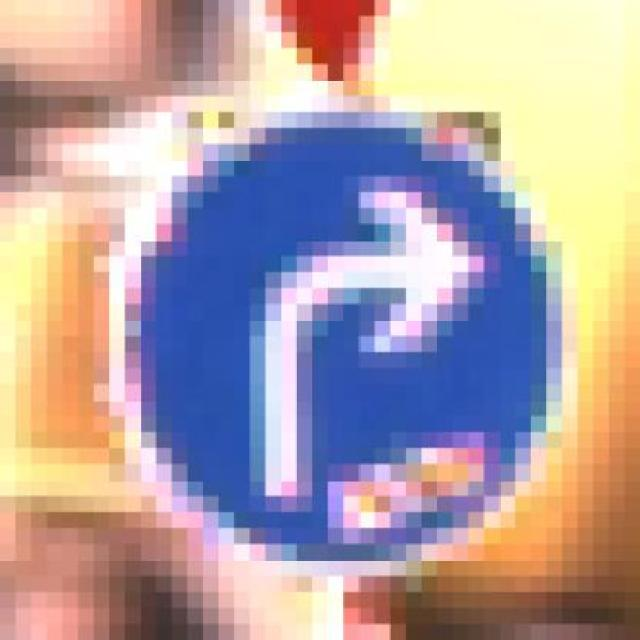Turn right ahead: (109, 112, 562, 576)
